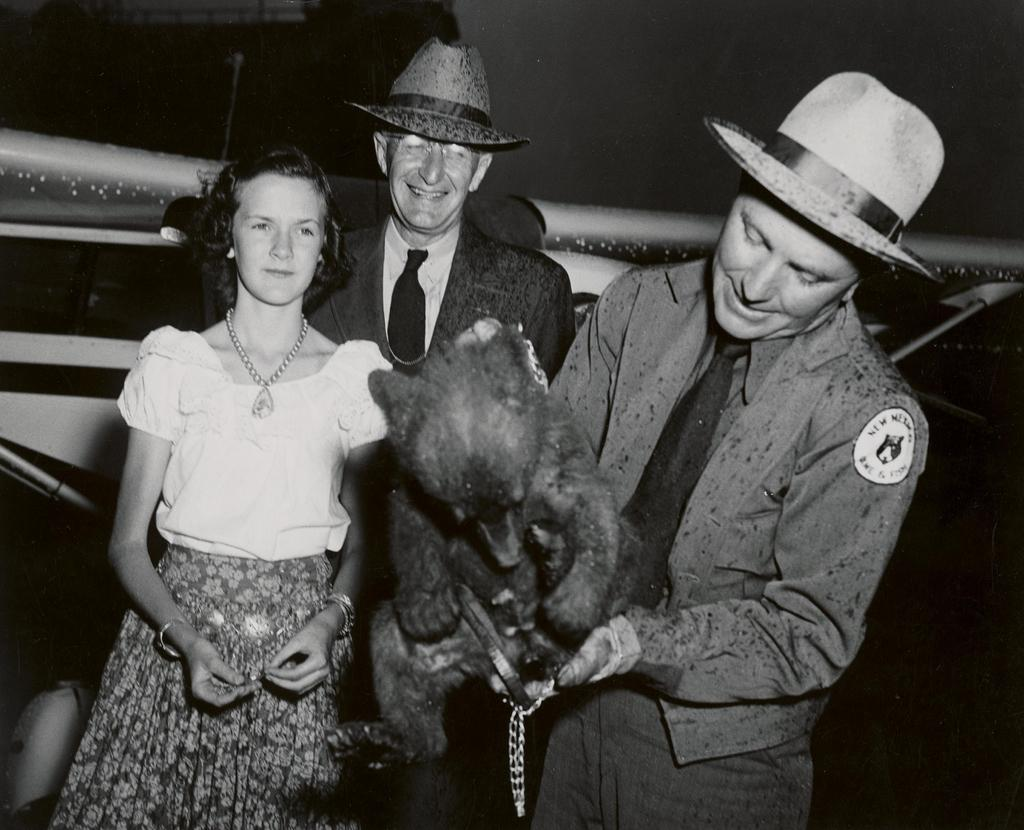Hat: (704, 67, 934, 277), (342, 38, 534, 154)
